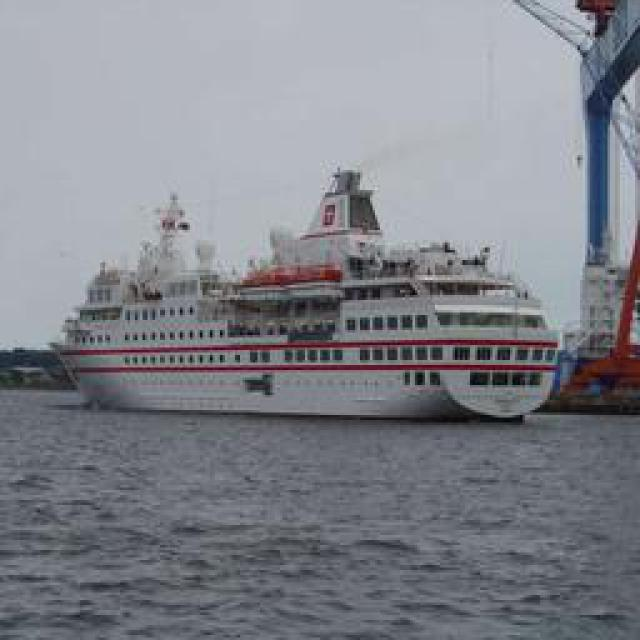Ship: (51, 177, 574, 425)
